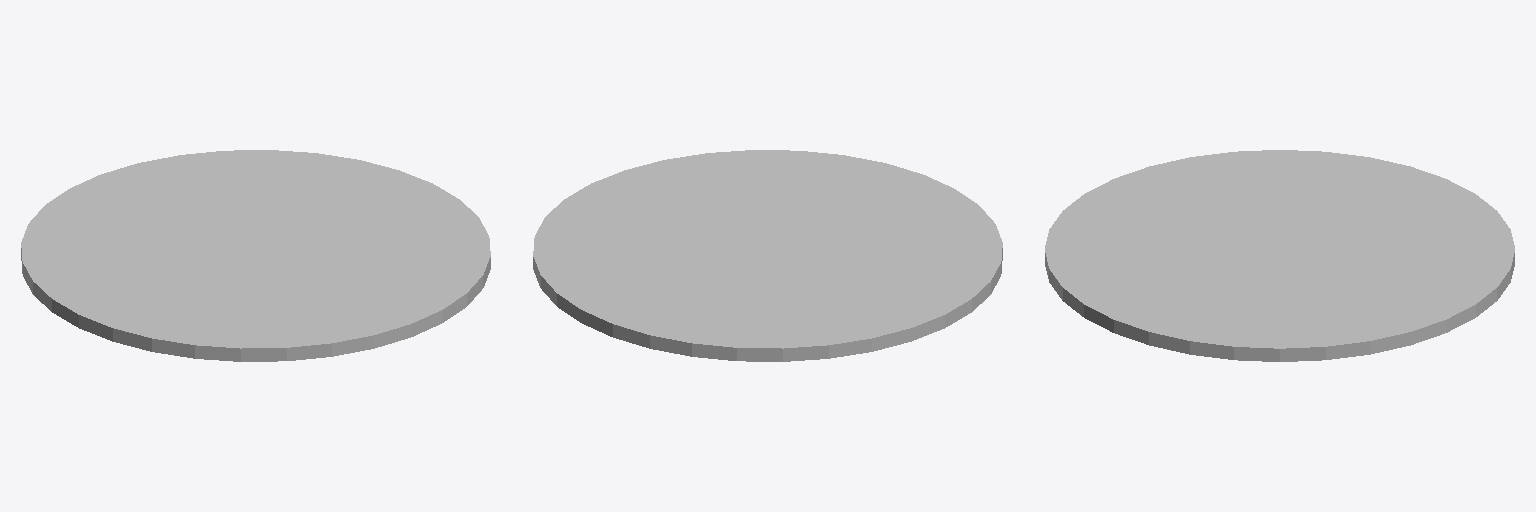
The model's file is sierra.obj.
3 views of the same model, side by side, from view 1: azimuth 30°, elevation 25°; view 2: azimuth 150°, elevation 25°; view 3: azimuth 270°, elevation 25° (orthographic).
Parts seen in each view (by area): view 1: Cylinder; view 2: Cylinder; view 3: Cylinder.
Boxes of the visible parts, x1,y1,x2,y2 form: Cylinder: [21, 150, 490, 361]; Cylinder: [533, 150, 1002, 361]; Cylinder: [1045, 150, 1514, 361].
Size of the model in its own units: 7.99 by 0.2528 by 7.99.